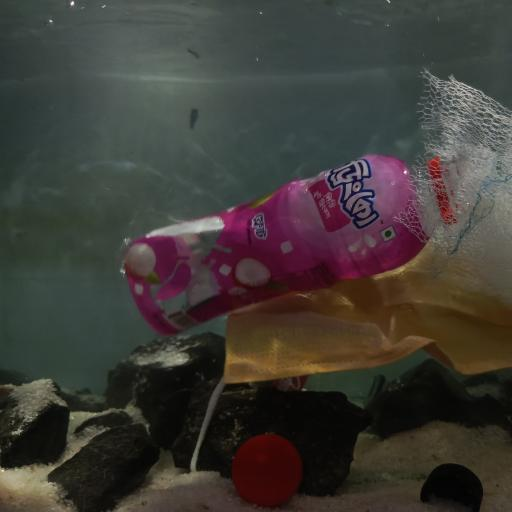bottle_cap: (232, 433, 304, 506), (420, 462, 484, 510)
mask: (211, 260, 512, 394)
net: (389, 60, 512, 320)
plastic_bottle: (121, 150, 476, 339), (212, 318, 392, 404)
